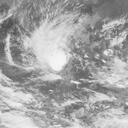cyclone: (22, 28, 70, 74)
